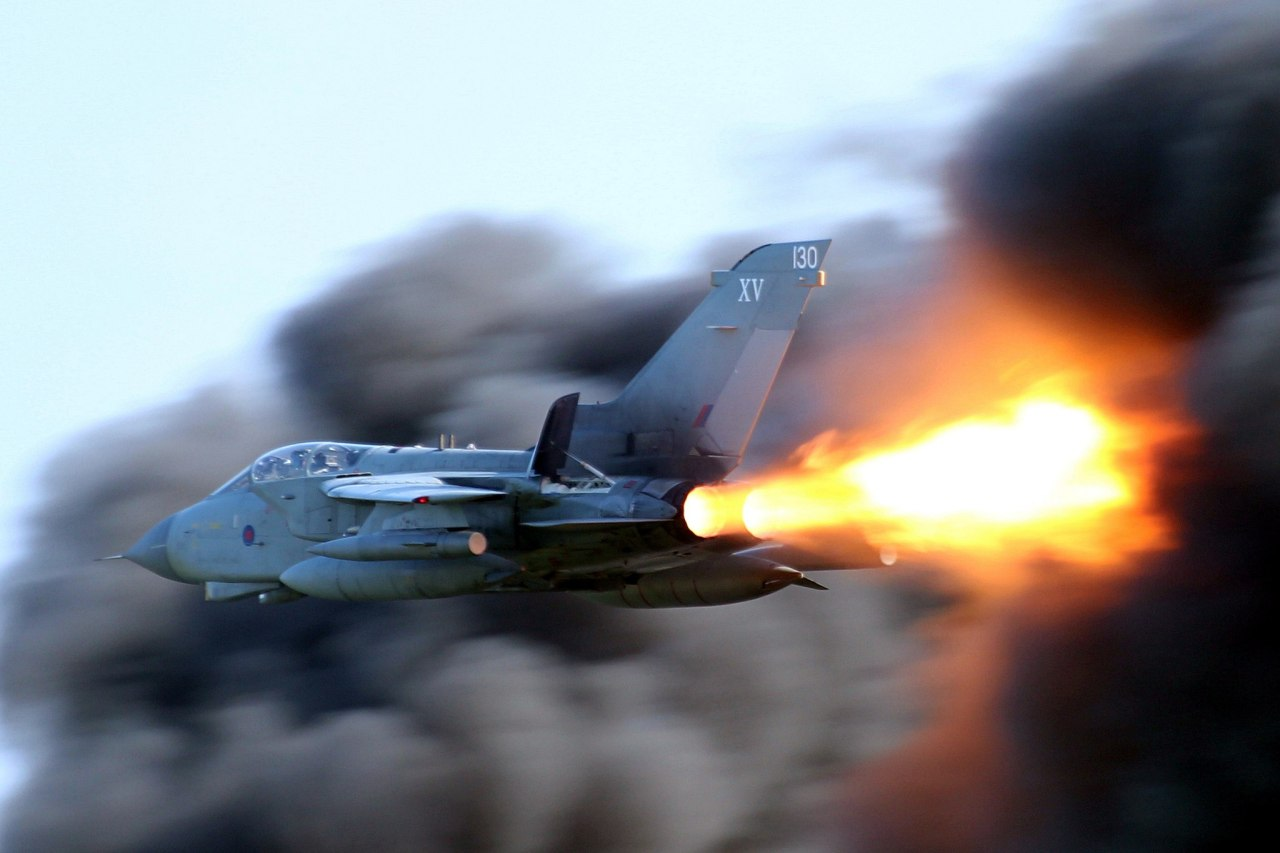Tornado: (90, 237, 898, 609)
